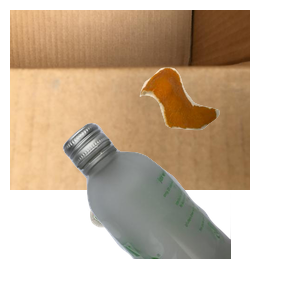cardboard: (10, 10, 250, 190)
glass: (60, 120, 300, 300)
plastic: (88, 182, 242, 300)
trash: (137, 65, 300, 188)
